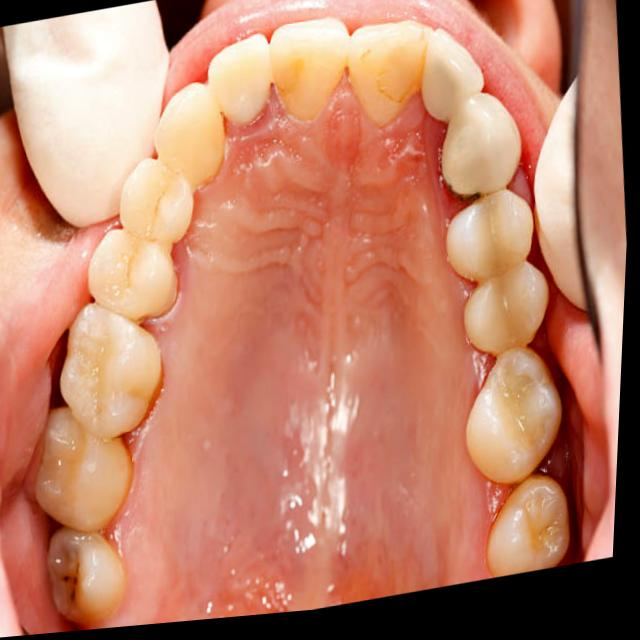calculus: (437, 130, 474, 199), (53, 571, 77, 616)
